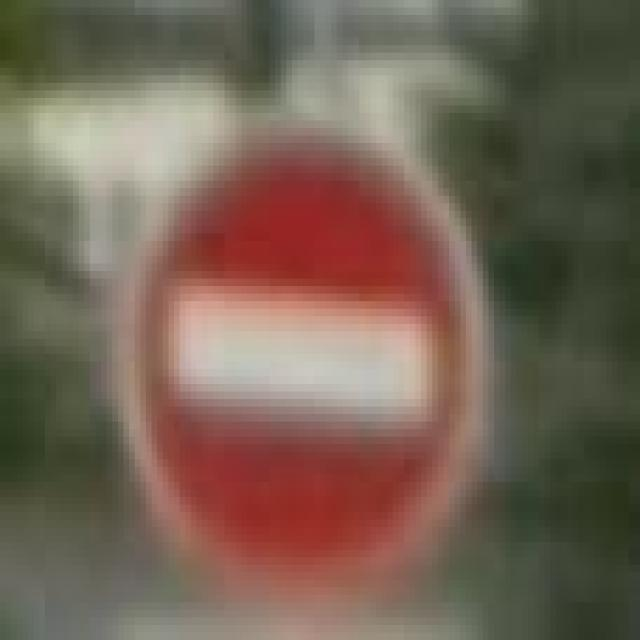Zakaz wjazdu: (112, 120, 488, 602)
